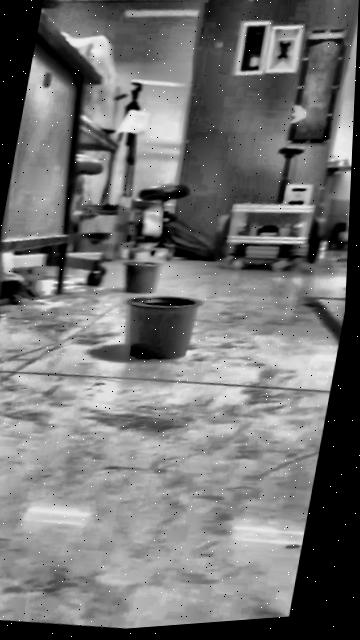pot: (114, 287, 201, 367), (119, 257, 162, 295)
